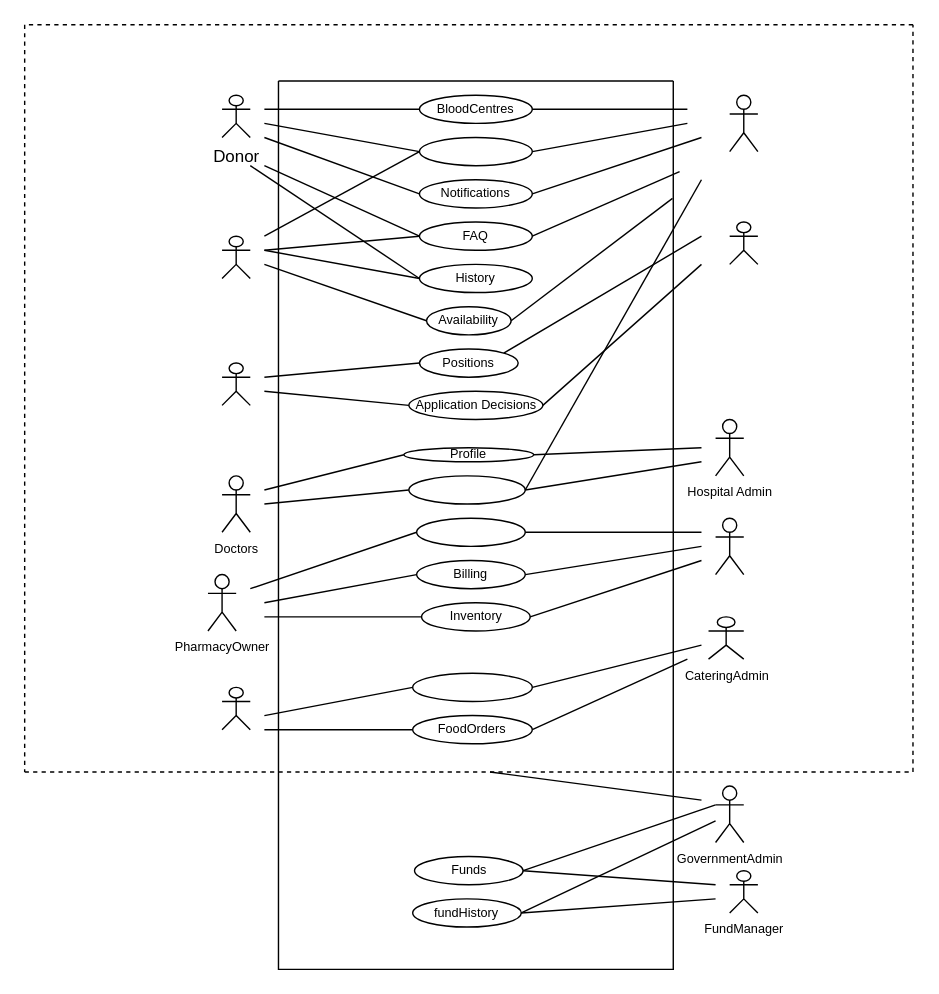
Image size: 939x994. Some labels were removed from this diagram. The shapes that lost their labels are listed below. From the top down, each one's centre as x and y in pixels, then its label:
point 743,123: Blood Bank Adminstrator
point 475,151: SlotBooking
point 235,256: Reciever
point 743,242: HiringManager
point 235,383: Applicant
point 466,489: emergencies
point 470,531: Pharmacyprofile
point 729,546: Pharmacy Admin
point 471,686: ManageHotel
point 235,708: HotelOwner
